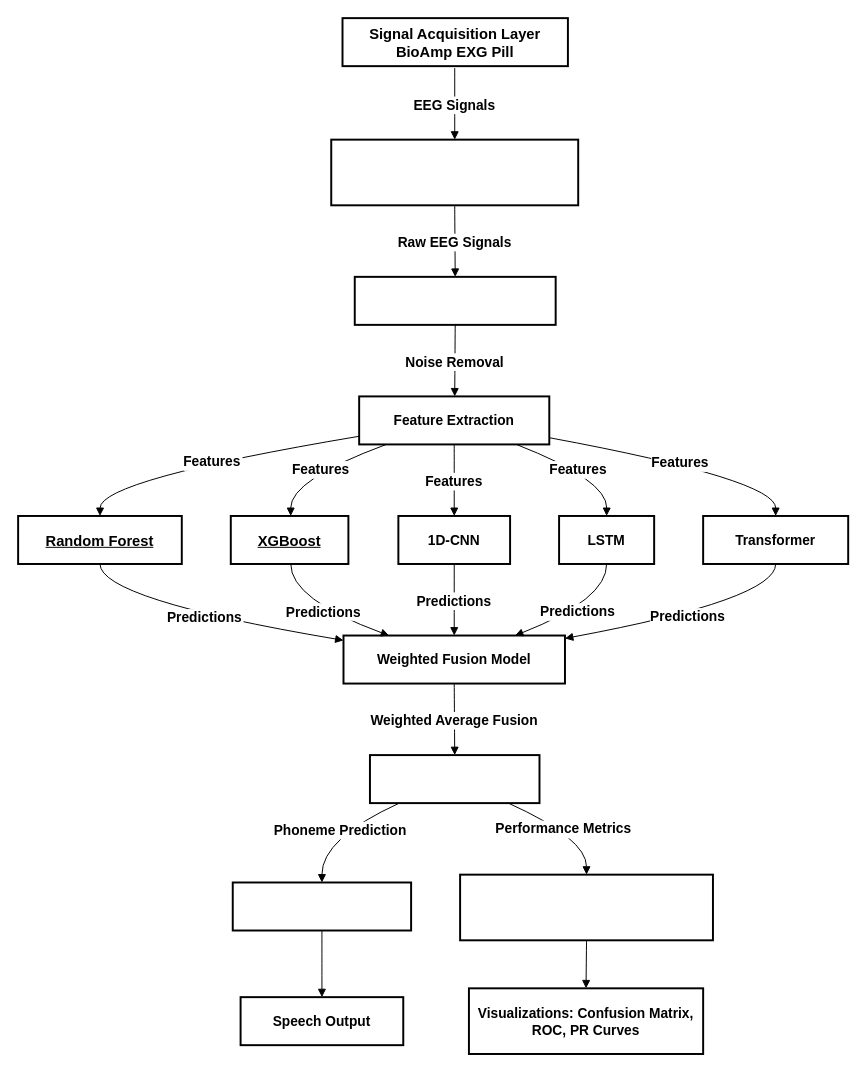
Some shapes in this 865 by 1071 pixel diagram are drawn without their labels. Each missing label, with the centre of its shape:
"Accuracy, Precision, Recall, F1 Score" goes at (586,907).
"Final Prediction" goes at (454,779).
"Signal Preprocessing" goes at (454,300).
"Signal Transmission via ESP Modules" goes at (454,172).
"Speech Synthesis" goes at (321,906).
